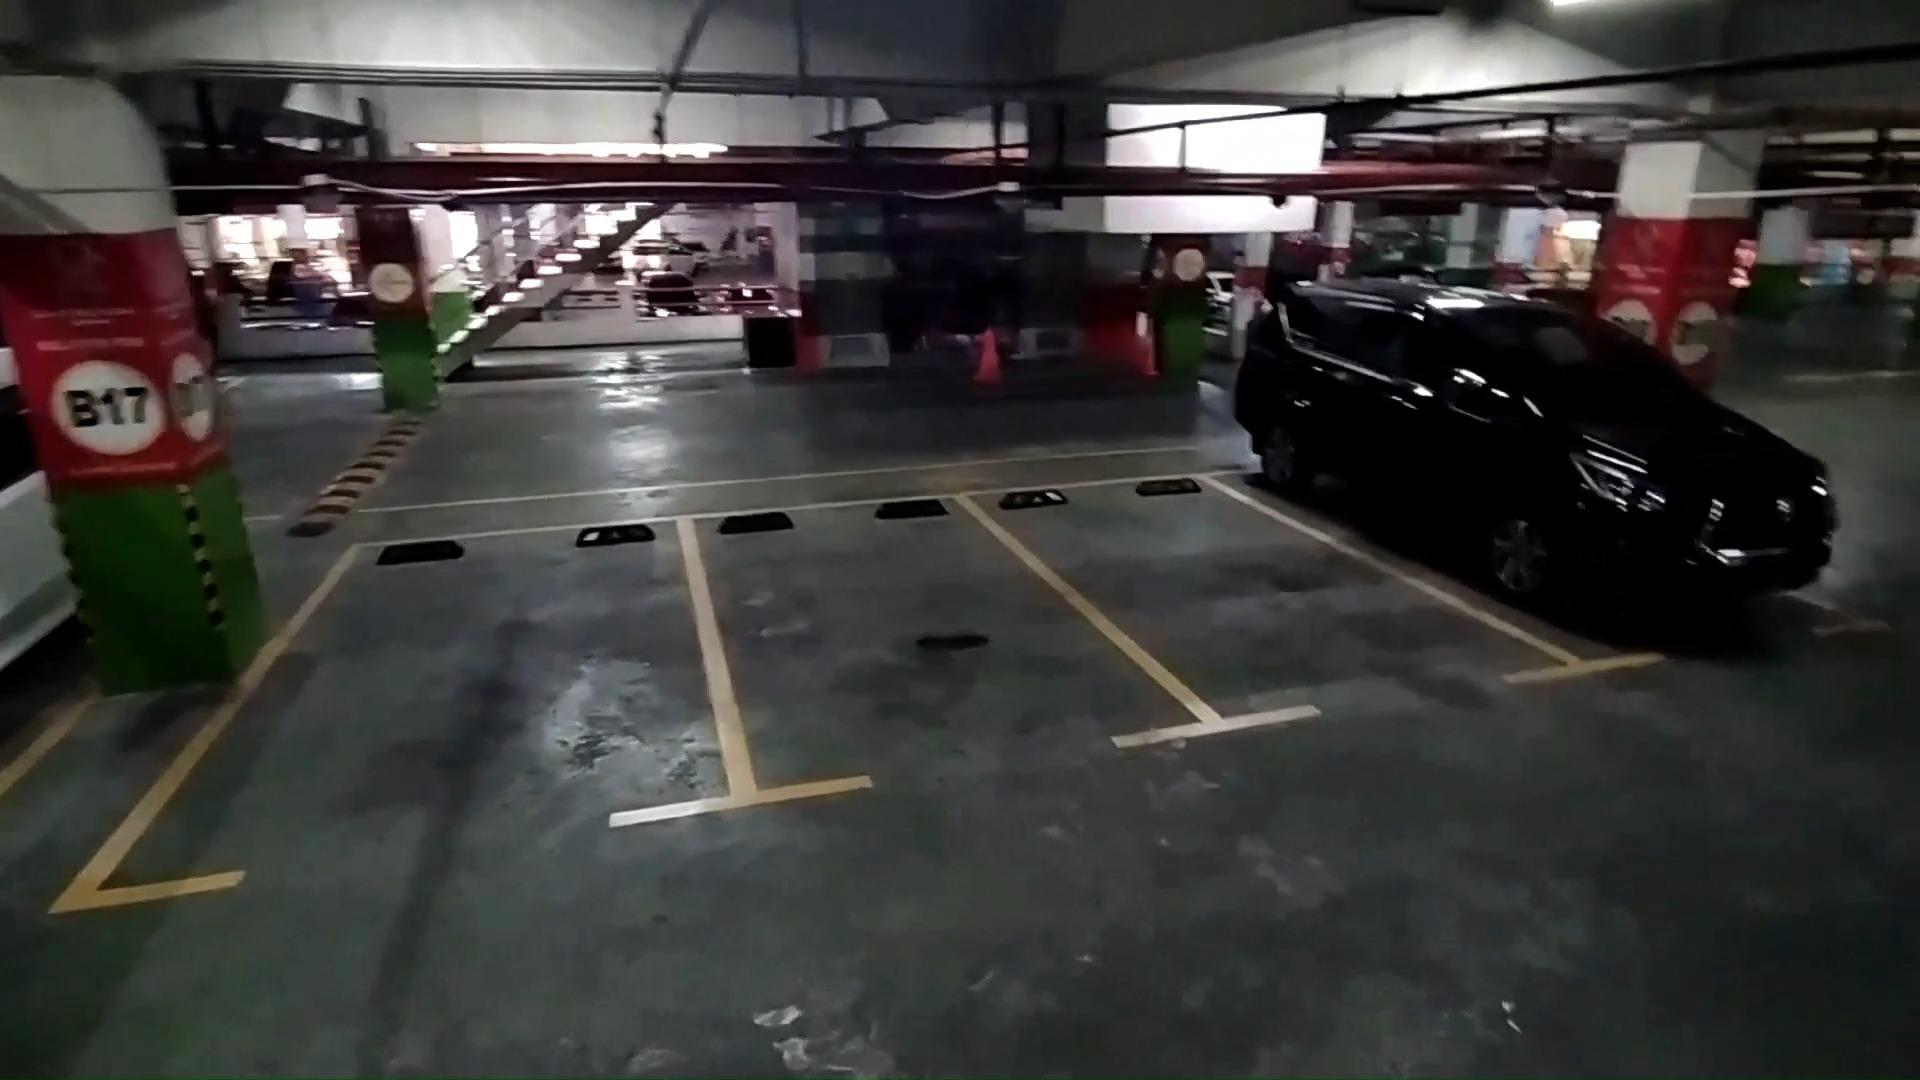empty: (233, 524, 701, 847), (690, 495, 1066, 801), (1049, 473, 1398, 743)
occupied: (1250, 289, 1861, 650)
